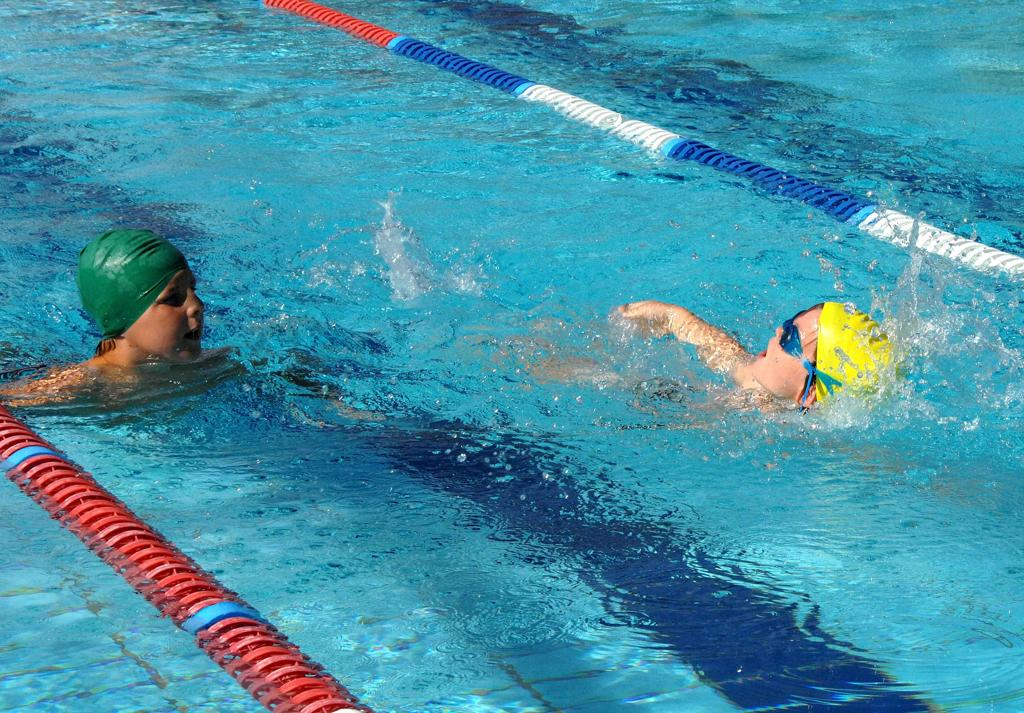face: (130, 250, 208, 368), (748, 308, 824, 382)
